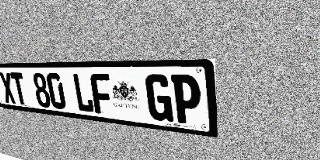0: (45, 73, 66, 110)
8: (31, 73, 51, 108)
F: (90, 73, 114, 115)
G: (145, 74, 173, 122)
L: (72, 73, 95, 113)
P: (171, 74, 202, 125)
T: (10, 72, 28, 105)
X: (0, 72, 16, 104)
